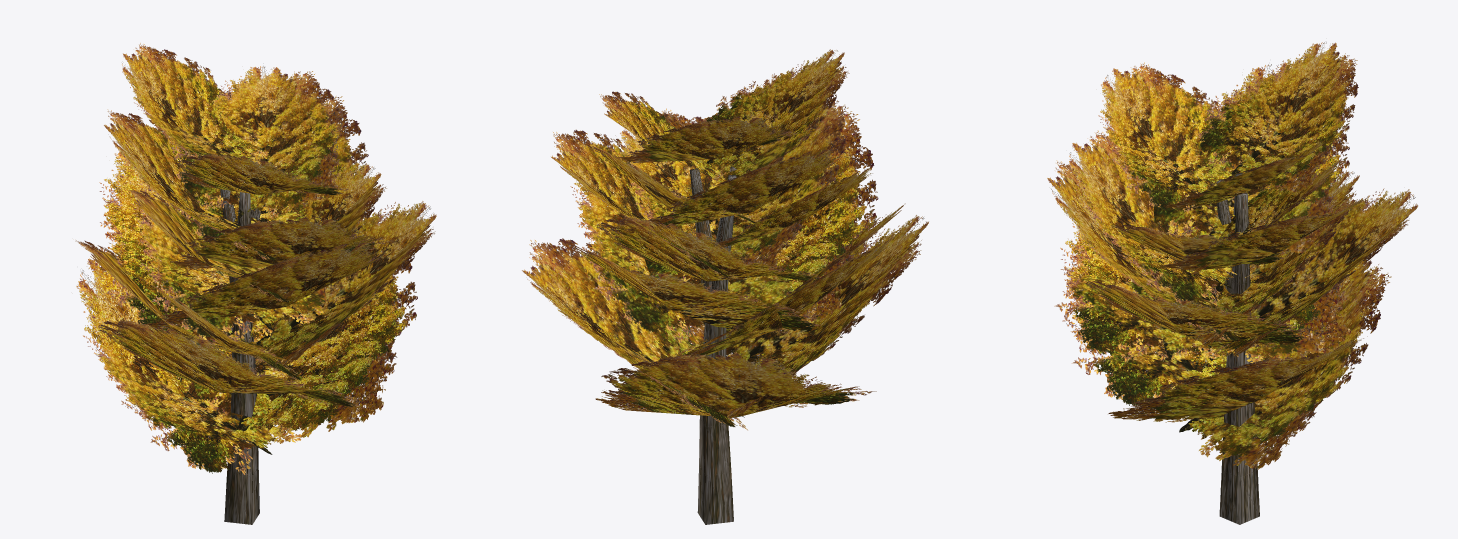
Rendered from tree000.glb.
The picture shows the model from 3 angles, left to right: view 1: azimuth 30°, elevation 25°; view 2: azimuth 150°, elevation 25°; view 3: azimuth 270°, elevation 25°; orthographic projection. The views are drawn at different scales.
Visible parts, largest first — view 1: foliage.001, tree00-col; view 2: foliage.001, tree00-col; view 3: foliage.001, tree00-col.
Boxes of the visible parts, x1,y1,x2,y2 form: foliage.001: (75,43,436,474); tree00-col: (220,189,260,524); foliage.001: (522,49,928,430); tree00-col: (689,166,736,524); foliage.001: (1047,42,1417,469); tree00-col: (1216,173,1259,524).
Size of the model in its own units: 11.64 by 11.72 by 11.01.
Materials: 2 (2 with a texture image).
